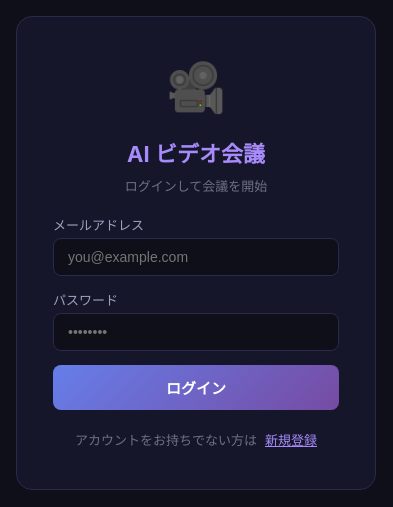
Test case: LoginScreen › 登録完了後に確認コード入力画面に遷移する
Click the button "新規登録" at coordinates (291, 440), box [265,430,317,449]
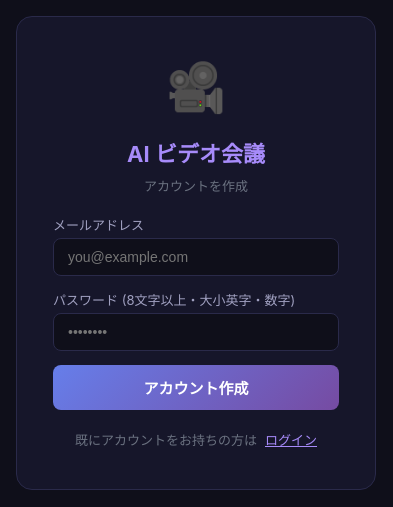
Type "new@example.com" into the field labelled "メールアドレス" at coordinates (196, 257), box [53,238,339,276]
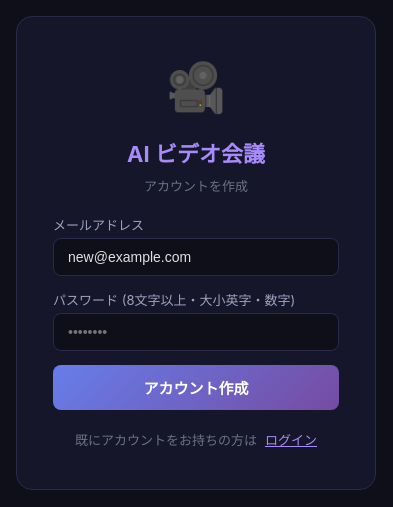
Type "ValidPass1" into the password field labelled "パスワード (8文字以上・大小英字・数字)" at coordinates (196, 332), box [53,313,339,351]
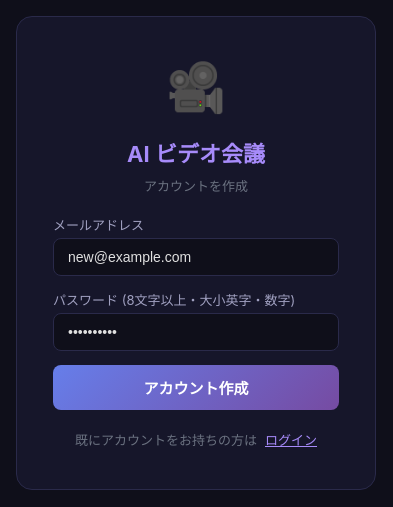
Click the button "アカウント作成" at coordinates (196, 388), box [53,365,339,410]
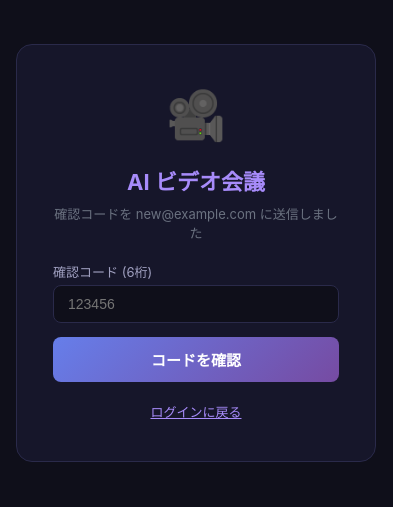
Check: the field labelled "確認コード (6桁)" is shown, box [53,285,339,323]
